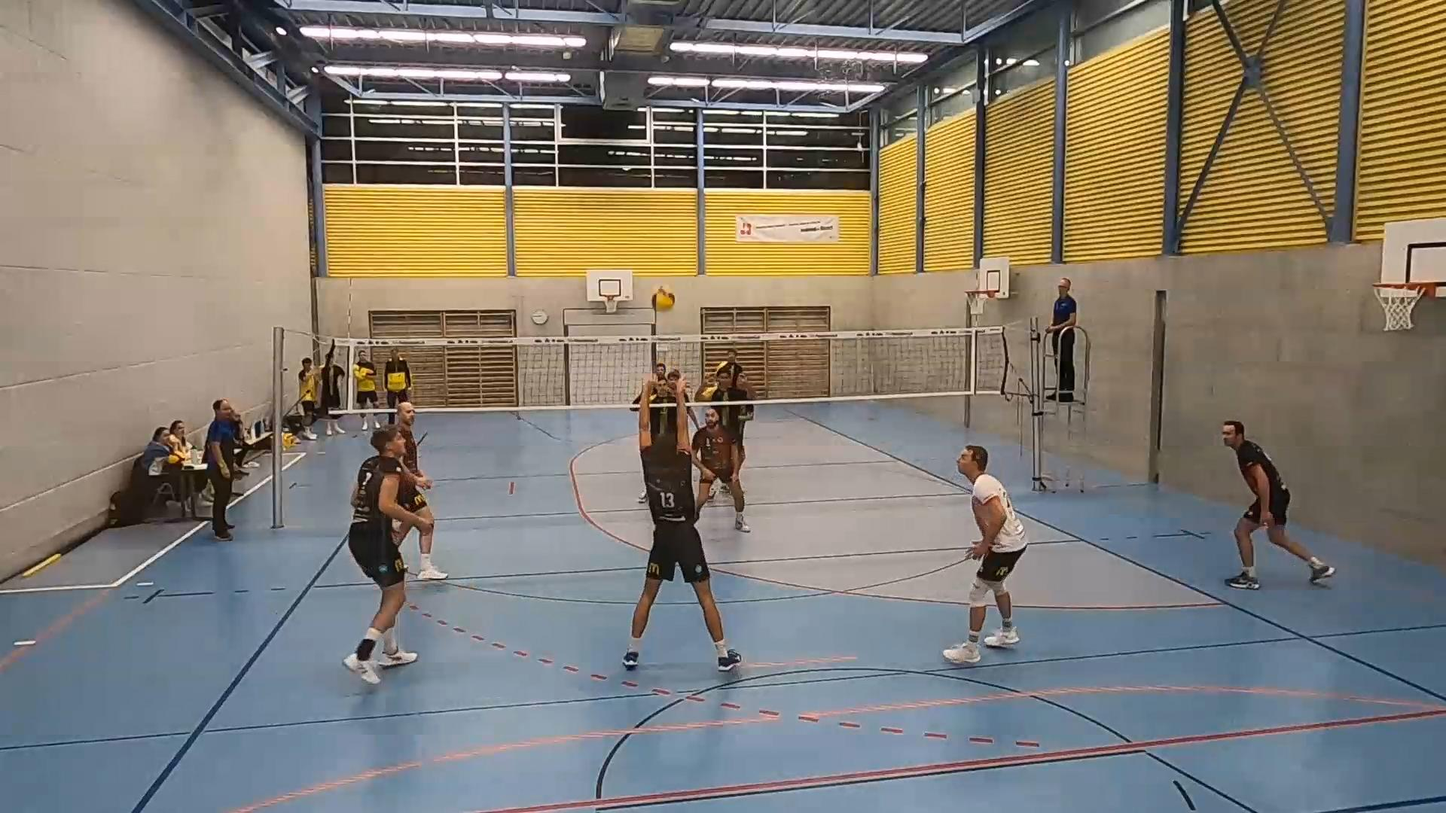Player: (343, 428, 430, 684), (1222, 421, 1334, 589), (943, 446, 1027, 664), (396, 402, 447, 580), (692, 407, 749, 531), (697, 367, 755, 471), (714, 348, 744, 379), (645, 395, 666, 435), (684, 393, 700, 428)
Receive: (620, 371, 744, 671)
ball: (654, 285, 675, 311)
